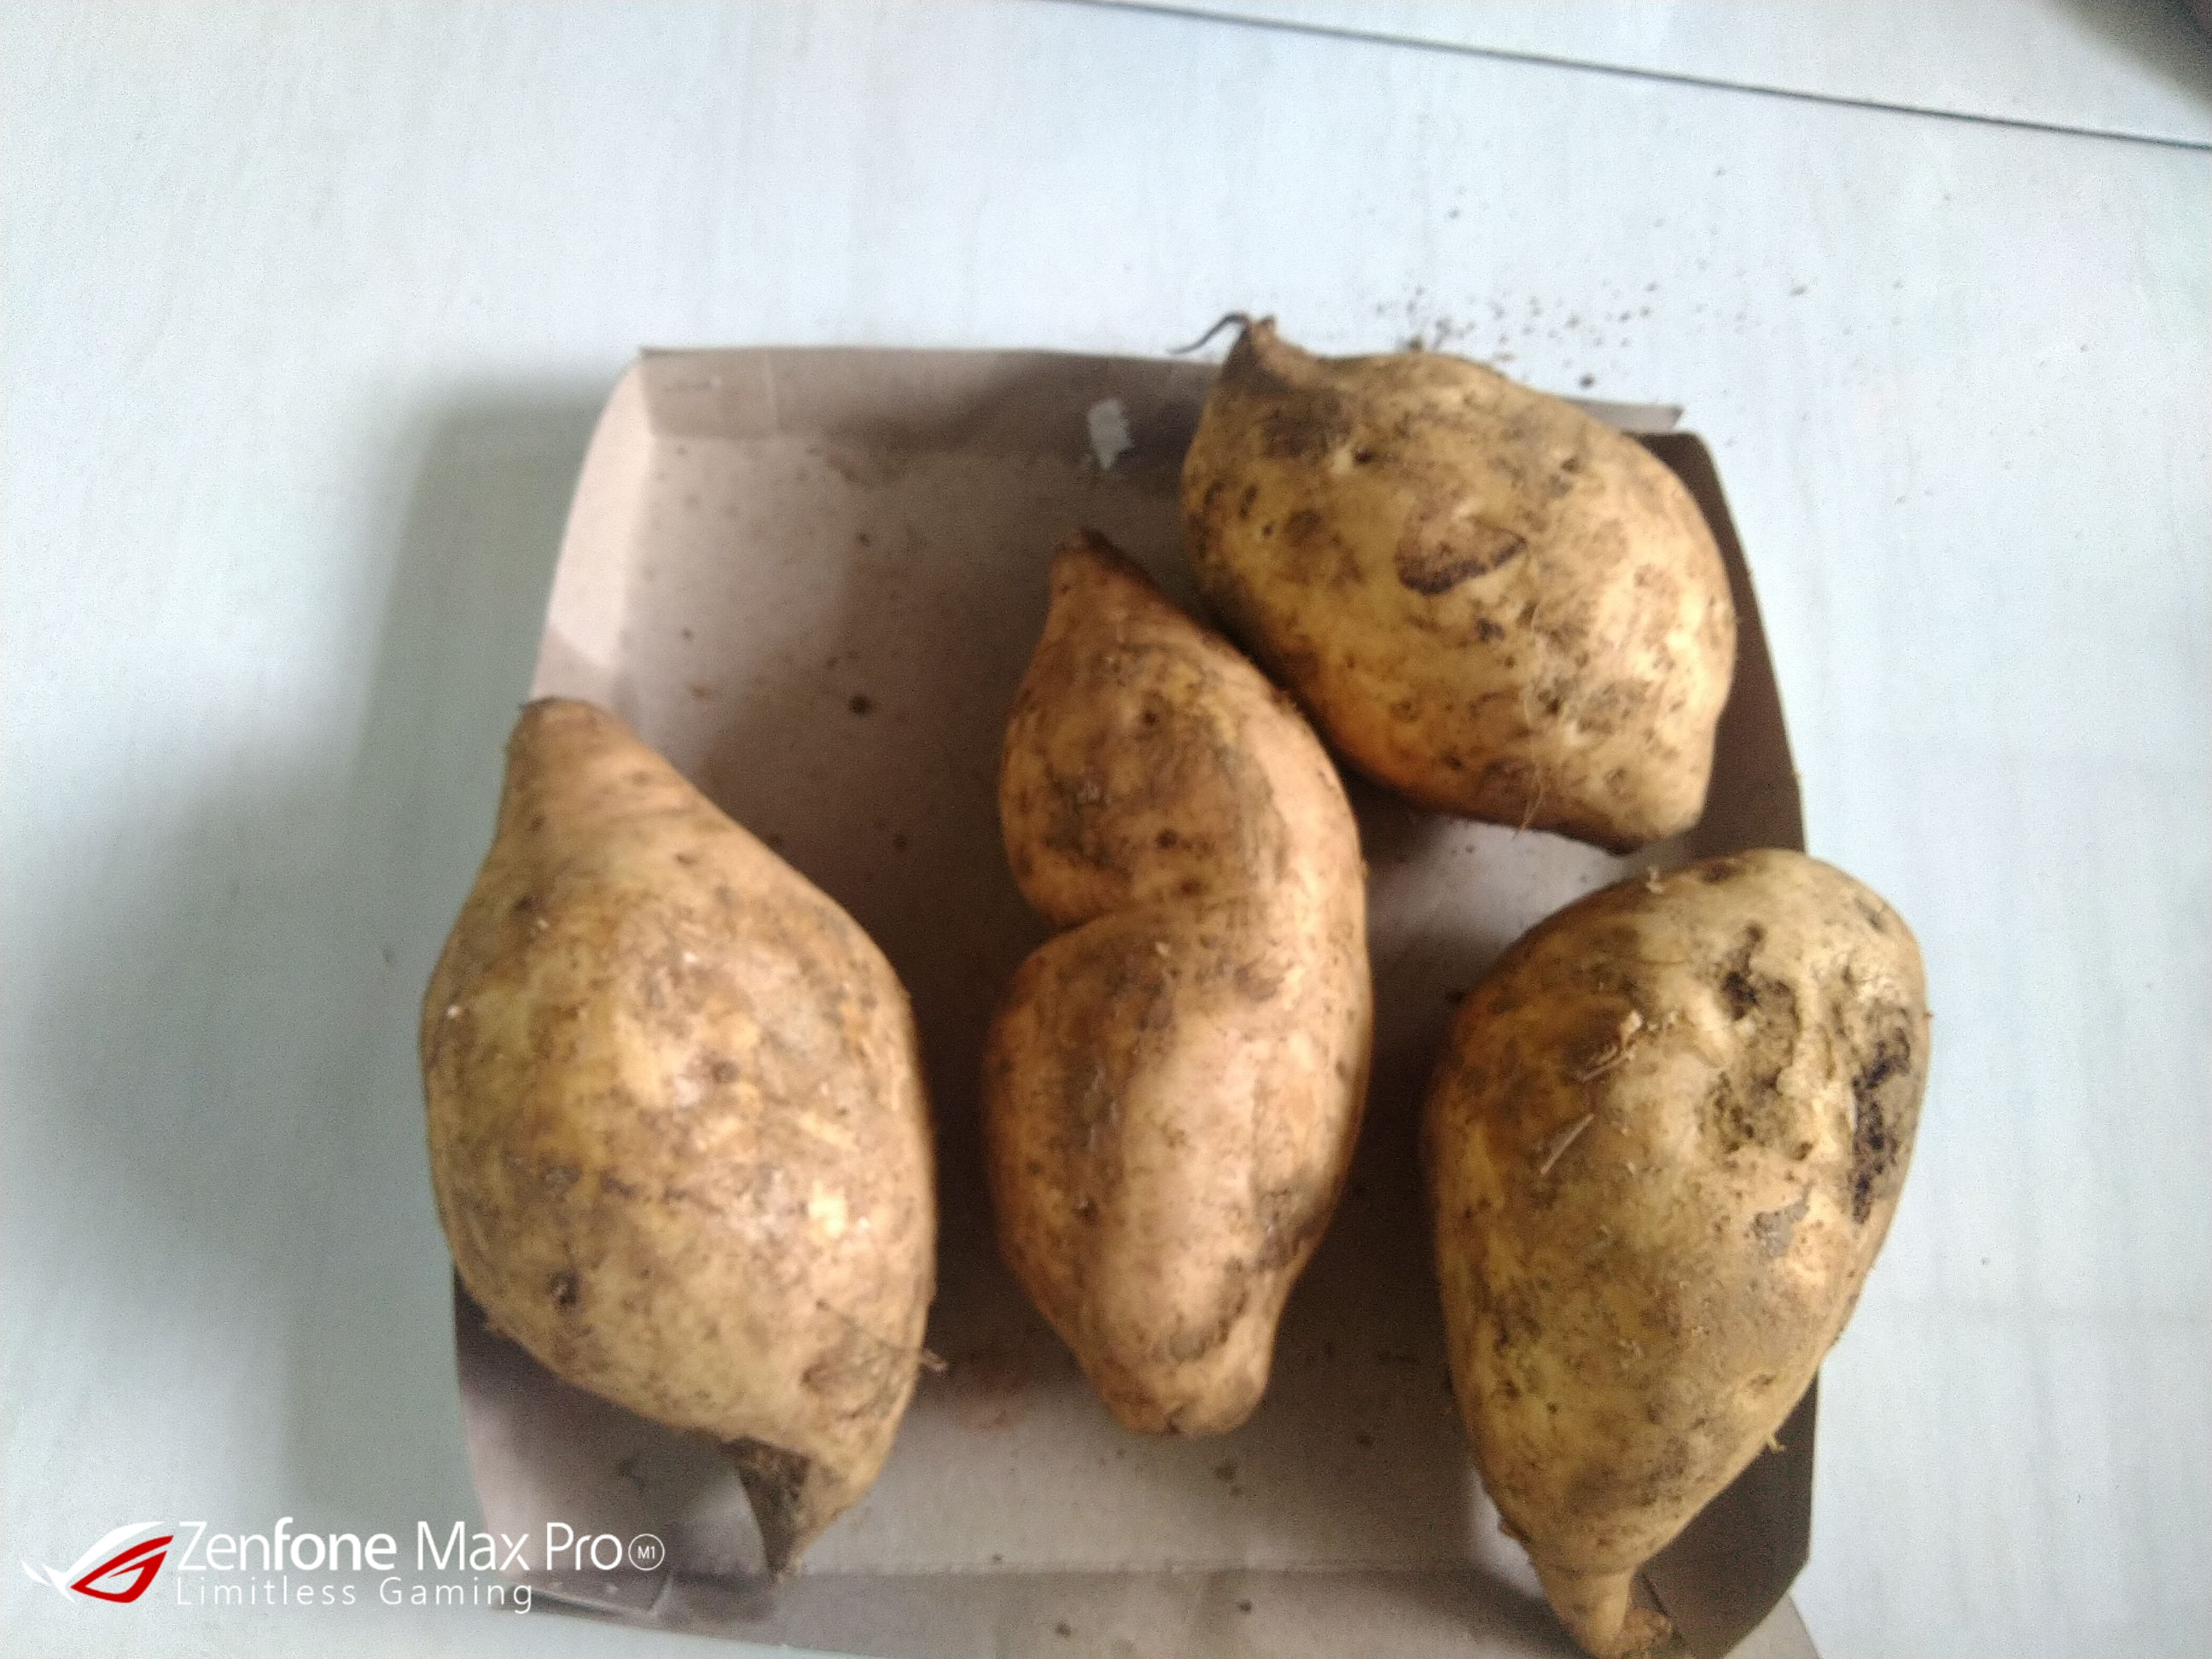ubi kuning: (397, 688, 956, 1577), (1404, 850, 1940, 1654), (956, 525, 1359, 1480), (1165, 296, 1743, 842)
